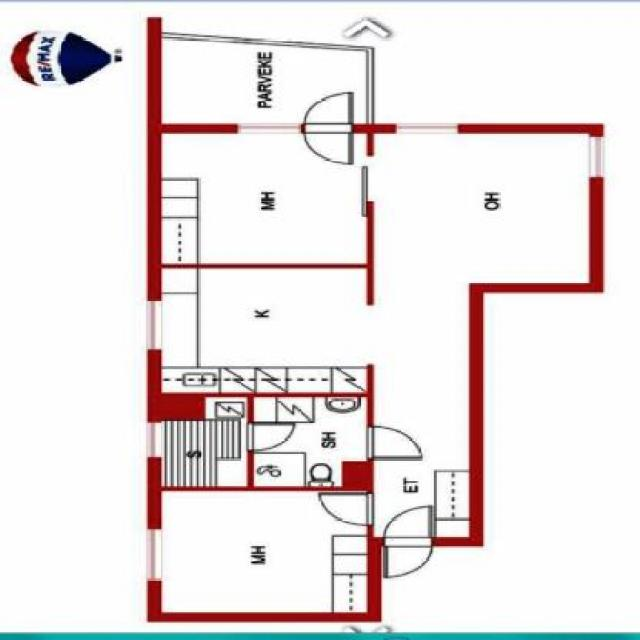door: (158, 130, 590, 538), (160, 132, 365, 265), (160, 492, 365, 614), (157, 34, 371, 123), (253, 396, 364, 486), (165, 396, 249, 486)
window: (303, 90, 359, 168), (384, 504, 438, 582), (364, 424, 422, 462), (322, 492, 378, 530), (238, 423, 297, 452)
zone: (394, 122, 455, 136), (589, 131, 606, 177), (234, 121, 294, 134), (146, 534, 162, 581), (146, 298, 160, 349), (146, 423, 160, 454)
